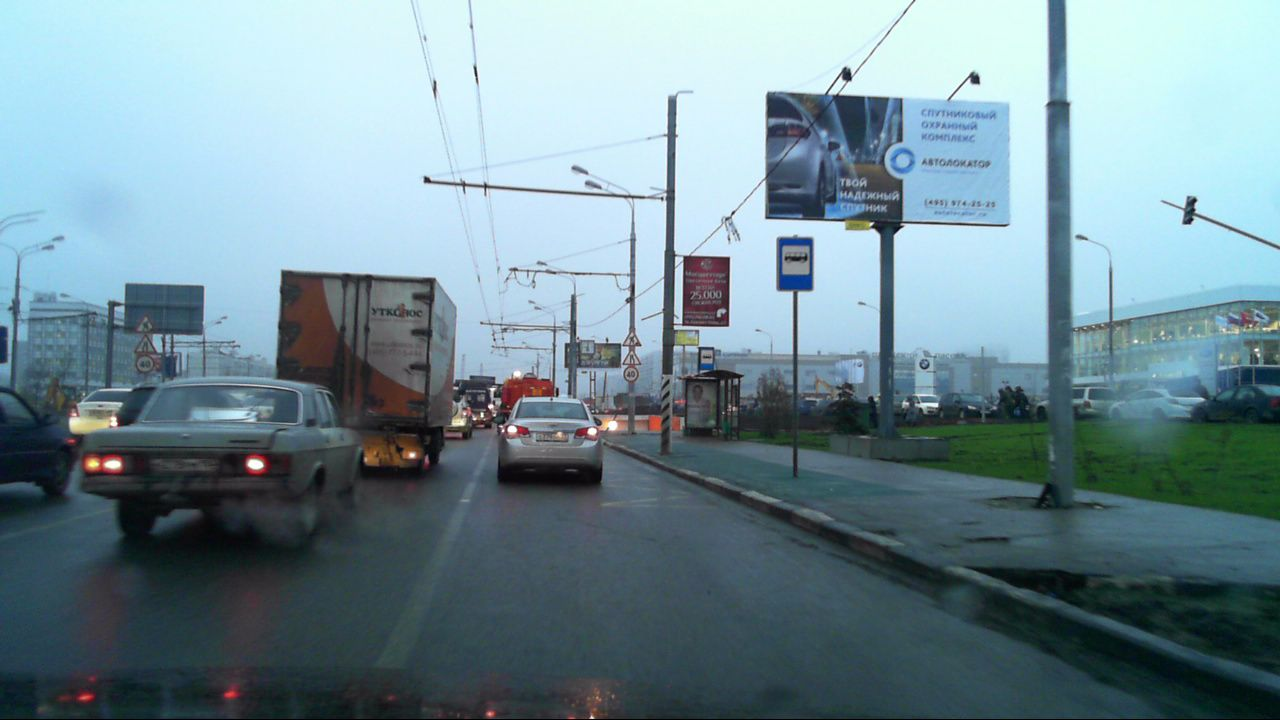speed_warning_40: (135, 354, 153, 372)
